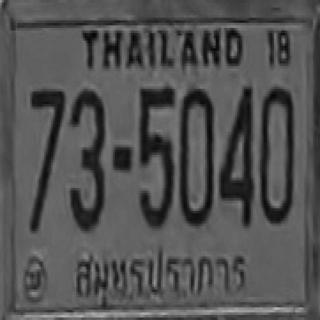N00: (258, 84, 293, 221), (178, 86, 212, 224)
N03: (68, 86, 105, 229)
N04: (218, 84, 253, 224)
N05: (138, 84, 173, 226)
N07: (29, 86, 64, 229), (30, 86, 64, 183), (30, 86, 64, 173)
P57: (68, 242, 249, 308)
